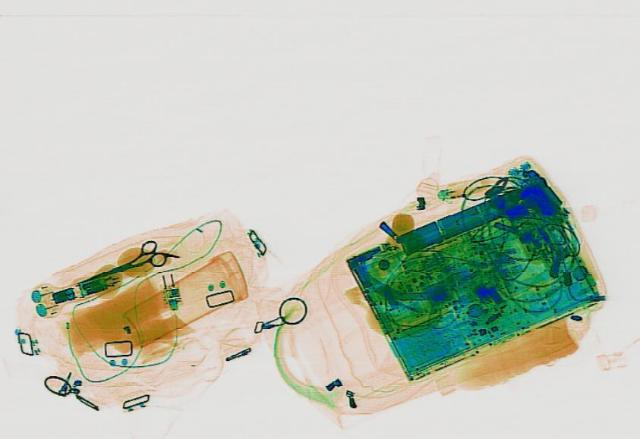Scissors: (63, 238, 171, 293)
